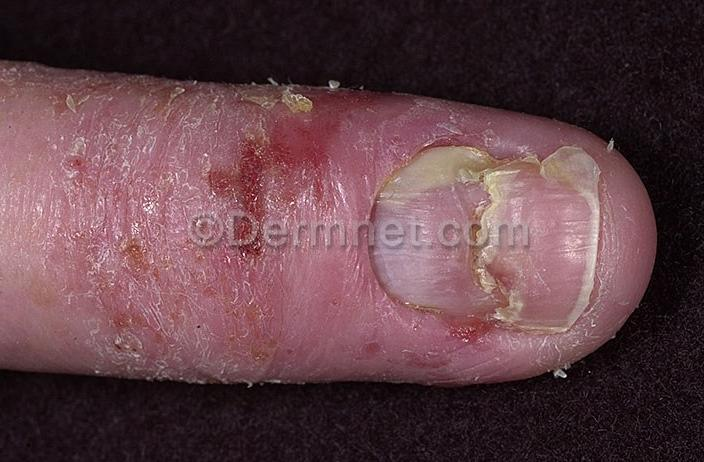eritema 3: (13, 48, 492, 438)
excoriacion 3: (205, 65, 416, 270)
xerosis 3: (24, 60, 291, 402)
